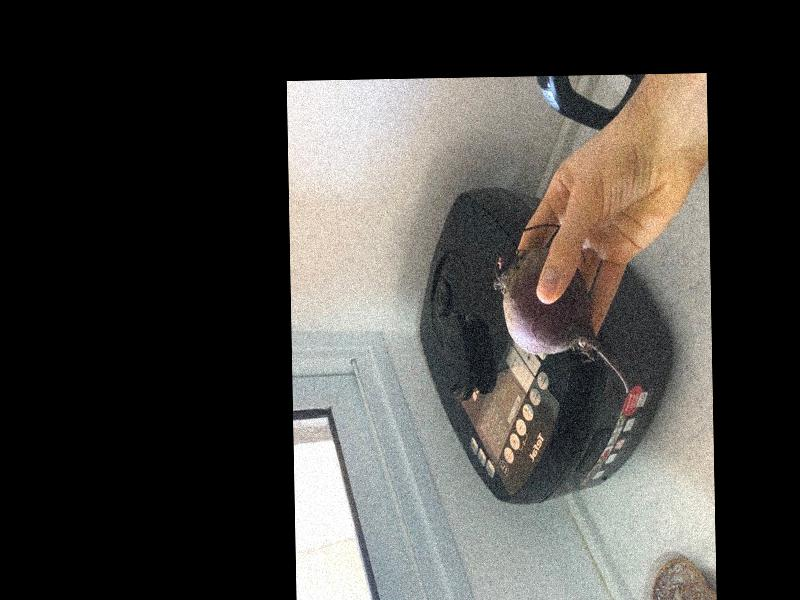Beet: (492, 224, 631, 395)
